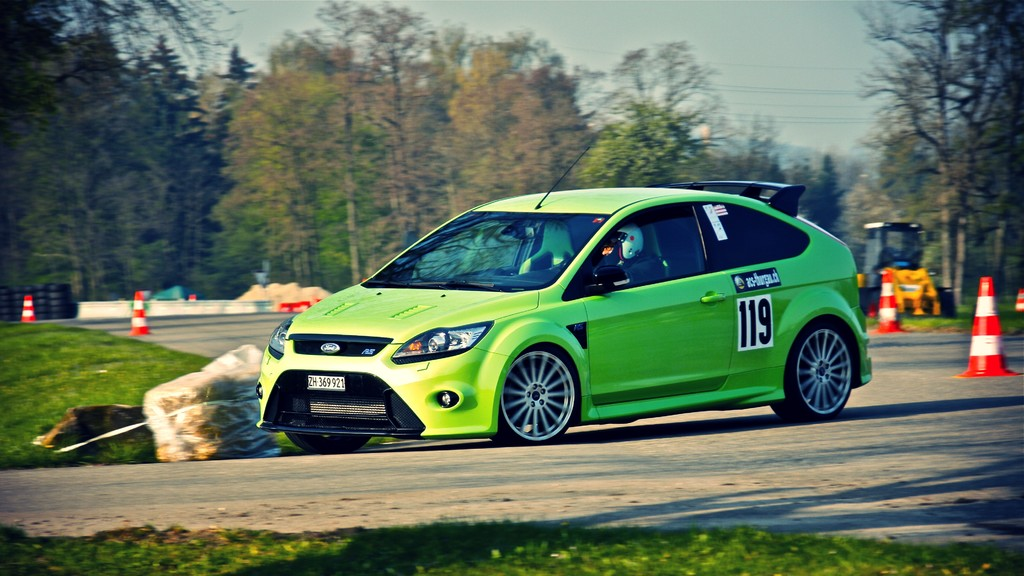Car: (248, 131, 881, 450)
